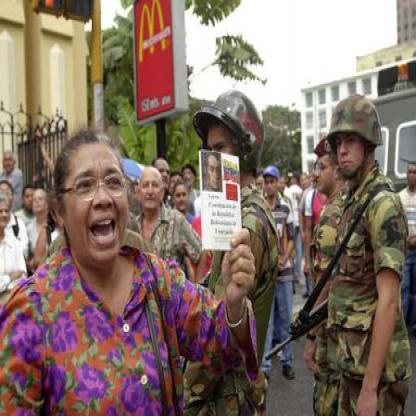face: (63, 136, 129, 269), (334, 105, 369, 181), (314, 146, 337, 195), (141, 170, 163, 211), (154, 161, 173, 192), (209, 156, 223, 190), (266, 169, 280, 198), (176, 185, 190, 213), (33, 192, 48, 214), (26, 189, 39, 213), (184, 169, 196, 189), (6, 153, 16, 173)
